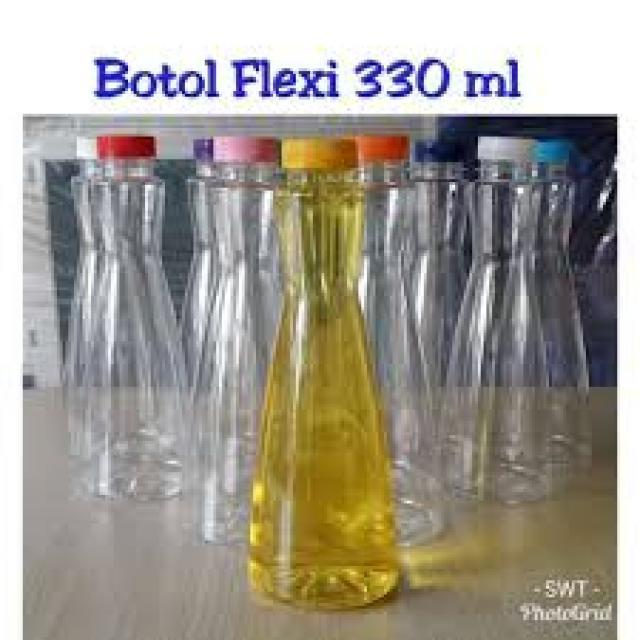good: (241, 146, 388, 630), (61, 137, 202, 519), (179, 122, 300, 556), (450, 134, 561, 502), (388, 134, 499, 499)
